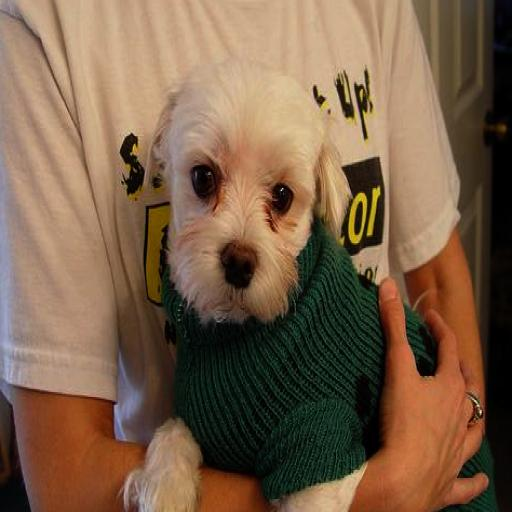dog_face: (159, 75, 334, 319)
